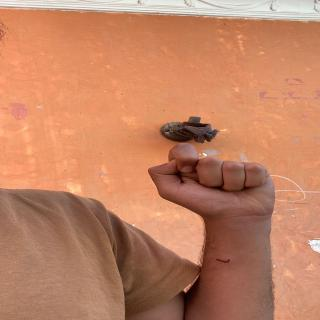FAA: (137, 142, 290, 218)
